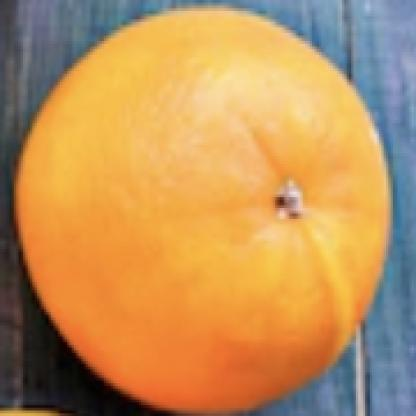fresh: (13, 9, 392, 416)
